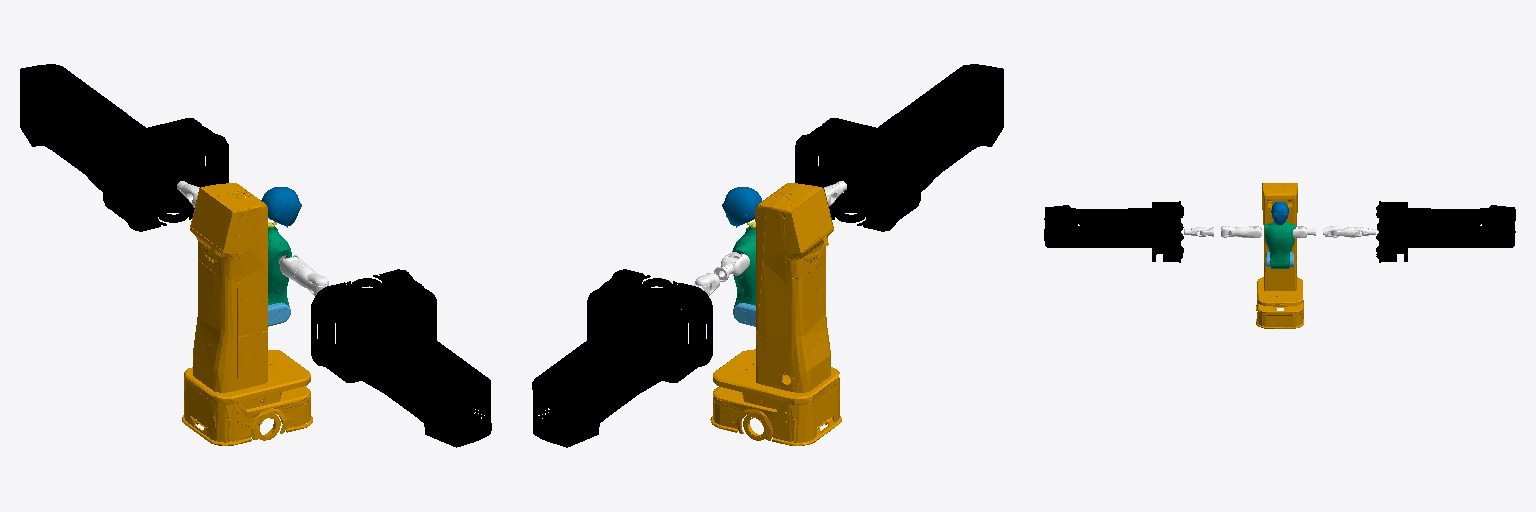
--- Render facts (derived) ---
3 views of the same robot in one strip: view 1: azimuth 30°, elevation 25°; view 2: azimuth 150°, elevation 25°; view 3: azimuth 270°, elevation 25° (orthographic).
Robot: genie — 46 links, 45 joints (33 revolute, 1 prismatic, 11 fixed); root link base_link; default pose: every joint at zero.
Visible links, largest first — view 1: base_link, gripper_r_base_link, gripper_l_base_link, body_link2, head_link2; view 2: base_link, gripper_l_base_link, gripper_r_base_link, body_link2, head_link2; view 3: gripper_r_base_link, gripper_l_base_link, base_link, body_link2.
Boxes of the visible links, box(x1,y1,x2,y2) form: base_link: box(182, 183, 312, 445); gripper_r_base_link: box(311, 269, 491, 447); gripper_l_base_link: box(20, 64, 228, 231); body_link2: box(268, 226, 291, 319); head_link2: box(261, 187, 301, 227); base_link: box(710, 183, 841, 445); gripper_l_base_link: box(532, 269, 712, 447); gripper_r_base_link: box(795, 64, 1003, 231); body_link2: box(732, 226, 755, 310); head_link2: box(722, 187, 761, 227); gripper_r_base_link: box(1044, 201, 1183, 262); gripper_l_base_link: box(1376, 201, 1515, 262); base_link: box(1256, 183, 1303, 328); body_link2: box(1264, 222, 1296, 268).
Size in the robot's own frame: 0.7298 by 4.41 by 1.3 metres.
23 mesh visuals loaded from 32 distinct referenced files (21 binary STL); not drawn: 20 (reference not matched to a file when rendering).

The robot description file, URDF, robot "genie":
<?xml version="1.0" ?>
<!-- =================================================================================== -->
<!-- |    This document was autogenerated by xacro from urdf/genie.robot.xacro         | -->
<!-- |    EDITING THIS FILE BY HAND IS NOT RECOMMENDED                                 | -->
<!-- =================================================================================== -->
<robot name="genie">
  <!-- Index -->
  <!-- body: [G1, G2] -->
  <!-- gripper: [dummy_hand, omnipicker, 120s, roh, skillhands6] -->
  <!-- <xacro:arg name="robot_model" default="G1" />
  <xacro:arg name="robot_model" default="G1" /> -->
  <!-- robot -->
  <!-- Material Definition -->
  <material name="black">
    <color rgba="0.0 0.0 0.0 1.0"/>
  </material>
  <material name="blue">
    <color rgba="0.0 0.0 0.8 1.0"/>
  </material>
  <material name="green">
    <color rgba="0.0 1.0 0.0 1.0"/>
  </material>
  <material name="grey">
    <color rgba="0.2 0.2 0.2 1.0"/>
  </material>
  <material name="orange">
    <color rgba="1.0 0.4235294117647059 0.0392156862745098 1.0"/>
  </material>
  <material name="brown">
    <color rgba="0.8705882352941177 0.8117647058823529 0.7647058823529411 1.0"/>
  </material>
  <material name="red">
    <color rgba="0.8 0.0 0.0 1.0"/>
  </material>
  <material name="white">
    <color rgba="1.0 1.0 1.0 1.0"/>
  </material>
  <!-- transparent is not working properly -->
  <material name="transparent">
    <color rgba="1.0 1.0 1.0 0.999"/>
  </material>
  <material name="default">
    <color rgba="0.752941176470588 0.752941176470588 0.752941176470588 1"/>
  </material>
  <!-- links -->
  <link name="base_link">
    <inertial>
      <origin rpy="0.0 0.0 0.0" xyz="-0.0134486971267798 0.00152103941353612 -0.0320076754329413"/>
      <mass value="23.2085382238952"/>
      <inertia ixx="0.386955641760608" ixy="0.000135417314593726" ixz="0.00669301645720665" iyy="0.366800407621218" iyz="0.000105713634260505" izz="0.546852919828475"/>
    </inertial>
    <visual>
      <geometry>
        <mesh filename="meshes/base_link.STL"/>
      </geometry>
      <origin rpy="0.0 0.0 0.0" xyz="0.0 0.0 0.0"/>
    </visual>
    <!-- <collision>
        <origin
          rpy="0.0 0.0 0.0"
          xyz="-0.10913086 0.0 0.51171875" />
        <geometry>
          <box size="0.29833984 0.3376392 1.0" />
        </geometry>
      </collision>
      <collision>
        <origin
          rpy="0.0 0.0 0.0"
          xyz="0.0 0.0 0.15" />
        <geometry>
          <box size="0.5996094 0.449 0.30273438" />
        </geometry>
      </collision> -->
  </link>
  <link name="body_link1">
    <inertial>
      <origin rpy="0.0 0.0 0.0" xyz="0.0338351537064605 -0.00248044044451858 0.000838431095422365"/>
      <mass value="3.26275452360108"/>
      <inertia ixx="0.0128301877197417" ixy="8.24967996575627e-06" ixz="1.38254543337324e-05" iyy="0.006104110250297" iyz="-7.99392548994692e-06" izz="0.0111721084996867"/>
    </inertial>
    <visual>
      <geometry>
        <mesh filename="meshes/link_up_down_body.STL"/>
      </geometry>
      <origin rpy="0.0 0.0 0.0" xyz="0.0 0.0 0.0"/>
    </visual>
    <!-- <collision>
        <origin
          rpy="0.0 0.0 0.0"
          xyz="0.10278320000000002 0.1 -0.013671875" />
        <geometry>
          <box size="0.16064453 0.05555534399999999 0.1328125" />
        </geometry>
      </collision>
      <collision>
        <origin
          rpy="0.0 0.0 0.0"
          xyz="0.10180664 -0.1 0.0" />
        <geometry>
          <box size="0.16259765999999998 0.04375648500000001 0.16015625" />
        </geometry>
      </collision> -->
  </link>
  <link name="body_link2">
    <inertial>
      <origin rpy="0.0 0.0 0.0" xyz="0.193733558855111 -0.000484180179482319 -0.00124011422952511"/>
      <mass value="7.53199207979272"/>
      <inertia ixx="0.016546682835947" ixy="0.000274441382484697" ixz="0.00102757387076422" iyy="0.0445441227006132" iyz="-0.000236858278708531" izz="0.0402036337794082"/>
    </inertial>
    <visual>
      <geometry>
        <mesh filename="meshes/link_pitch_body.STL"/>
      </geometry>
      <origin rpy="0.0 0.0 -1.5707963267948966" xyz="0.0 0.0 0.0"/>
    </visual>
    <!-- <collision>
        <origin
          rpy="0 0 0"
          xyz="0.0068359375 -0.00034356117 0.0" />
        <geometry>
          <cylinder radius="0.09662318" length="0.08697056999999997" />
        </geometry>
      </collision>
      <collision>
        <origin
          xyz="0.0068359375 -0.00034356117 0.043485284999999985" />
        <geometry>
          <sphere radius="0.09662318" />
        </geometry>
      </collision>
      <collision>
        <origin
          xyz="0.0068359375 -0.00034356117 -0.043485284999999985" />
        <geometry>
          <sphere radius="0.09662318" />
        </geometry>
      </collision>
      <collision>
        <origin
          rpy="0.0 0.0 -${PI_2}"
          xyz="0.008 -0.248 0.0" />
        <geometry>
          <box size="0.34570312 0.18107724 0.3125" />
        </geometry>
      </collision> -->
  </link>
  <link name="head_link1">
    <inertial>
      <origin rpy="0.0 0.0 0.0" xyz="0.0446068140025754 0.00241753143645124 0.0528373754603559"/>
      <mass value="0.414342871921048"/>
      <inertia ixx="0.000158695728344024" ixy="-1.04590928109554e-06" ixz="-6.58530903139189e-06" iyy="0.000117742864399469" iyz="-2.65011299996072e-06" izz="0.000170947040827065"/>
    </inertial>
    <visual>
      <geometry>
        <mesh filename="meshes/link_yaw_head.STL"/>
      </geometry>
      <origin rpy="0.0 0.0 0.0" xyz="0.0 0.0 0.0"/>
    </visual>
  </link>
  <link name="head_link2">
    <inertial>
      <origin rpy="0.0 0.0 0.0" xyz="0.0257009265816389 0.0316254080188787 -3.77390122592164e-05"/>
      <mass value="0.707063977171202"/>
      <inertia ixx="0.00205409595373573" ixy="0.000347730118005016" ixz="-2.13857752451204e-06" iyy="0.00200357281313449" iyz="5.16150600423908e-08" izz="0.00184999028444405"/>
    </inertial>
    <visual>
      <geometry>
        <mesh filename="meshes/link_pitch_head.STL"/>
      </geometry>
      <origin rpy="-3.141592653589793 0.0 0.0" xyz="0.0 0.0 0.0"/>
    </visual>
    <!-- <collision>
        <geometry>
          <sphere radius="0.11257068650657154" />
        </geometry>
        <origin
          xyz="0.011500973396434619 -0.0252600143348118 0.0008537154007319386"
          rpy="0.0 0.0 0.0" />
      </collision> -->
  </link>
  <link name="arm_base_link"/>
  <link name="arm_l_base_link">
    <inertial>
      <origin rpy="0.0 0.0 0.0" xyz="-0.00020641 0.00057488 0.032296"/>
      <mass value="0.37595"/>
      <inertia ixx="0.00024335" ixy="1.2188e-06" ixz="-2.4281e-06" iyy="0.00024039" iyz="6.6932e-06" izz="0.00032195"/>
    </inertial>
    <visual>
      <geometry>
        <mesh filename="meshes/base_link_l.STL"/>
      </geometry>
      <origin rpy="0.0 0.0 0.0" xyz="0.0 0.0 0.0"/>
    </visual>
    <!-- <collision>
        <geometry>
          <cylinder radius="0.05426921699310094" length="0.09134995751082897" />
        </geometry>
        <origin
          xyz="-0.0017106435846521925 0.0013720927967423996 0.02822502050548792"
          rpy="0.0 0.0 0.0" />
      </collision> -->
  </link>
  <link name="arm_r_base_link">
    <inertial>
      <origin rpy="0.0 0.0 0.0" xyz="0.00020641 -0.00057488 0.034396"/>
      <mass value="0.37595"/>
      <inertia ixx="0.00024335" ixy="1.2188e-06" ixz="2.4281e-06" iyy="0.00024039" iyz="-6.6932e-06" izz="0.00032195"/>
    </inertial>
    <visual>
      <geometry>
        <mesh filename="meshes/base_link_r.STL"/>
      </geometry>
      <origin rpy="0.0 0.0 0.0" xyz="0.0 0.0 0.0"/>
    </visual>
    <!-- <collision>
        <geometry>
          <cylinder radius="0.05447215073540005" length="0.0913499565795064" />
        </geometry>
        <origin
          xyz="0.001163549527588341 -0.0020492302944608923 0.030325019266456366"
          rpy="0.0 0.0 0.0" />
      </collision> -->
  </link>
  <!-- joints waist -->
  <joint name="idx01_body_joint1" type="prismatic">
    <parent link="base_link"/>
    <child link="body_link1"/>
    <origin rpy="0.0 0.0 0.0" xyz="0.0 0.0 0.6485"/>
    <axis xyz="0.0 0.0 1.0"/>
    <limit effort="100.0" lower="0.0" upper="0.55" velocity="0.1"/>
  </joint>
  <joint name="idx02_body_joint2" type="revolute">
    <parent link="body_link1"/>
    <child link="body_link2"/>
    <origin rpy="-1.5707963267948966 0.0 0.0" xyz="0.131 0.0 0.0"/>
    <axis xyz="0.0 0.0 1.0"/>
    <limit effort="100.0" lower="0.0" upper="1.5707963267948966" velocity="0.5"/>
  </joint>
  <!-- joints head -->
  <joint name="idx11_head_joint1" type="revolute">
    <parent link="body_link2"/>
    <child link="head_link1"/>
    <origin rpy="1.5707963267948966 0.0 0.0" xyz="0.0 -0.441 0.0"/>
    <axis xyz="0.0 0.0 1.0"/>
    <limit effort="50.0" lower="-1.5707963267948966" upper="1.5707963267948966" velocity="1.0"/>
  </joint>
  <joint name="idx12_head_joint2" type="revolute">
    <parent link="head_link1"/>
    <child link="head_link2"/>
    <origin rpy="-1.5707963267948966 0.0 0.0" xyz="0.050238 0.0 0.060065"/>
    <axis xyz="0.0 0.0 1.0"/>
    <limit effort="50.0" lower="-0.3490658503988659" upper="0.5235987755982988" velocity="1.0"/>
  </joint>
  <!-- joints arm base -->
  <joint name="idx10_arm_base_joint" type="fixed">
    <parent link="body_link2"/>
    <child link="arm_base_link"/>
    <origin rpy="1.5707963267948966 0.0 0.0" xyz="0.0 -0.305 0.0"/>
    <axis xyz="0.0 0.0 1.0"/>
  </joint>
  <joint name="idx11_arm_l_base_joint" type="fixed">
    <parent link="arm_base_link"/>
    <child link="arm_l_base_link"/>
    <origin rpy="-1.5707963267948966 0.0 0.0" xyz="0.0 0.025 0.0"/>
    <axis xyz="1.0 0.0 0.0"/>
  </joint>
  <joint name="idx12_arm_r_base_joint" type="fixed">
    <parent link="arm_base_link"/>
    <child link="arm_r_base_link"/>
    <origin rpy="-1.5707963267948966 0.0 3.141592653589793" xyz="0.0 -0.025 0.0"/>
    <axis xyz="1.0 0.0 0.0"/>
  </joint>
  <!-- properties -->
  <!-- links -->
  <link name="arm_l_link1">
    <inertial>
      <origin rpy="0 0 0" xyz="-0.0012655 -0.00043778 -0.018388"/>
      <mass value="0.4936"/>
      <inertia ixx="0.00075396" ixy="6.6935e-06" ixz="6.1141e-06" iyy="0.00065755" iyz="1.2196e-06" izz="0.00031848"/>
    </inertial>
    <visual>
      <origin rpy="0 0 0" xyz="0 0 0"/>
      <geometry>
        <mesh filename="meshes/Link1_l.STL"/>
      </geometry>
      <material name="white"/>
    </visual>
    <collision>
      <geometry>
        <cylinder length="0.16642063483595848" radius="0.05579268228774888"/>
      </geometry>
      <origin rpy="0.0 0.0 -1.2566370614359172" xyz="0.0026814433577366636 0.0006133775157398935 -0.04071124829351902"/>
    </collision>
  </link>
  <link name="arm_l_link2">
    <inertial>
      <origin rpy="0 0 0" xyz="5.3037e-05 -0.078258 0.0047084"/>
      <mass value="0.46245"/>
      <inertia ixx="0.00065719" ixy="3.7112e-07" ixz="-3.6668e-06" iyy="0.00043459" iyz="-2.517e-05" izz="0.00072571"/>
    </inertial>
    <visual>
      <origin rpy="0 0 0" xyz="0 0 0"/>
      <geometry>
        <mesh filename="meshes/Link2_l.STL"/>
      </geometry>
      <material name="white"/>
    </visual>
    <collision>
      <origin rpy="1.5707963267948966 0 0" xyz="0.0 -0.044062052 0.0009765625"/>
      <geometry>
        <cylinder length="0.18085919" radius="0.06302423"/>
      </geometry>
    </collision>
  </link>
  <link name="arm_l_link3">
    <inertial>
      <origin rpy="0 0 0" xyz="-0.0012032 0.0008714 -0.055265"/>
      <mass value="0.50026"/>
      <inertia ixx="0.0013016" ixy="3.1401e-06" ixz="1.4255e-05" iyy="0.001427" iyz="2.4361e-05" izz="0.00033587"/>
    </inertial>
    <visual>
      <origin rpy="0 0 0" xyz="0 0 0"/>
      <geometry>
        <mesh filename="meshes/Link3_l.STL"/>
      </geometry>
      <material name="white"/>
    </visual>
    <collision>
      <origin rpy="3.141592653589793 -1.2246467991473532e-16 2.5132741228718345" xyz="-0.002745052027917949 0.000636008250640886 -0.07223940640687943"/>
      <geometry>
        <cylinder length="0.22069887816905975" radius="0.05423258091998755"/>
      </geometry>
    </collision>
  </link>
  <link name="arm_l_link4">
    <inertial>
      <origin rpy="0 0 0" xyz="3.7035e-05 -0.06248 0.0025377"/>
      <mass value="0.27473"/>
      <inertia ixx="0.00029284" ixy="4.6615e-07" ixz="6.2359e-08" iyy="0.00018853" iyz="-1.1062e-06" izz="0.00031238"/>
    </inertial>
    <visual>
      <origin rpy="0 0 0" xyz="0 0 0"/>
      <geometry>
        <mesh filename="meshes/Link4_l.STL"/>
      </geometry>
      <material name="white"/>
    </visual>
    <collision>
      <origin rpy="1.5707963267948966 0 0" xyz="0.0 -0.03817895 -0.0043945312"/>
      <geometry>
        <cylinder length="0.154955404" radius="0.057891708"/>
      </geometry>
    </collision>
  </link>
  <link name="arm_l_link5">
    <inertial>
      <origin rpy="0 0 0" xyz="-7.9404e-07 -0.00023094 -0.024143"/>
      <mass value="0.25139"/>
      <inertia ixx="0.00023516" ixy="-1.3496e-09" ixz="-2.0314e-08" iyy="0.00028808" iyz="-1.2106e-05" izz="0.00013069"/>
    </inertial>
    <visual>
      <origin rpy="0 0 0" xyz="0 0 0"/>
      <geometry>
        <mesh filename="meshes/Link5_l.STL"/>
      </geometry>
      <material name="white"/>
    </visual>
    <collision>
      <origin rpy="0.0 0.0 -0.6283185307179586" xyz="0.00013161953185003987 -5.835551655943335e-05 -0.033305803313851357"/>
      <geometry>
        <cylinder length="0.13452399894595146" radius="0.045614576801007695"/>
      </geometry>
    </collision>
  </link>
  <link name="arm_l_link6">
    <inertial>
      <origin rpy="0 0 0" xyz="1.769e-06 -0.086692 0.0025571"/>
      <mass value="0.26634"/>
      <inertia ixx="0.00031434" ixy="-2.9254e-09" ixz="1.0017e-07" iyy="0.00014464" iyz="-2.0329e-05" izz="0.0003245"/>
    </inertial>
    <visual>
      <origin rpy="0 0 0" xyz="0 0 0"/>
      <geometry>
        <mesh filename="meshes/Link6_l.STL"/>
      </geometry>
      <material name="white"/>
    </visual>
    <collision>
      <origin rpy="-5.990089690983079e-19 -1.4805425285141327 -1.5677635369963552" xyz="0.0002549462426528953 -0.055477687883556816 -0.0019394332157672595"/>
      <geometry>
        <cylinder length="0.1816599826988493" radius="0.048507387167967514"/>
      </geometry>
    </collision>
  </link>
  <link name="arm_l_end_link">
    <inertial>
      <origin rpy="0 0 0" xyz="-7.5113e-05 -0.00024521 -0.016705"/>
      <mass value="0.06158"/>
      <inertia ixx="1.8407e-05" ixy="3.4796e-08" ixz="-3.2424e-09" iyy="1.818e-05" iyz="1.1327e-07" izz="2.8547e-05"/>
    </inertial>
    <visual>
      <origin rpy="0 0 0" xyz="0 0 0"/>
      <geometry>
        <mesh filename="meshes/Link7_l.STL"/>
      </geometry>
      <material name="white"/>
    </visual>
    <collision>
      <origin rpy="3.141592653589793 -1.2246467991473532e-16 3.141592653589793" xyz="-4.552953707661759e-05 -0.002300474691790042 -0.02249999972991645"/>
      <geometry>
        <cylinder length="0.045999998692423105" radius="0.030799950382754494"/>
      </geometry>
    </collision>
  </link>
  <!-- joints -->
  <joint name="idx21_arm_l_joint1" type="revolute">
    <parent link="arm_l_base_link"/>
    <child link="arm_l_link1"/>
    <origin rpy="0 0 0" xyz="0.0 0.0 0.1859"/>
    <axis xyz="0.0 0.0 1.0"/>
    <limit effort="60.0" lower="-3.14" upper="3.14" velocity="3.14"/>
  </joint>
  <joint name="idx22_arm_l_joint2" type="revolute">
    <parent link="arm_l_link1"/>
    <child link="arm_l_link2"/>
    <origin rpy="-1.5707963267948966 0.0 1.5707963267948966" xyz="0.0 0.0 0.0"/>
    <axis xyz="0.0 0.0 1.0"/>
    <limit effort="60.0" lower="-2.09" upper="1.48" velocity="3.14"/>
  </joint>
  <joint name="idx23_arm_l_joint3" type="revolute">
    <parent link="arm_l_link2"/>
    <child link="arm_l_link3"/>
    <origin rpy="-1.5707963267948966 1.5707963267948966 3.141592653589793" xyz="0.0 -0.305 0.0"/>
    <axis xyz="0.0 0.0 1.0"/>
    <limit effort="60.0" lower="-3.10" upper="3.10" velocity="3.14"/>
  </joint>
  <joint name="idx24_arm_l_joint4" type="revolute">
    <parent link="arm_l_link3"/>
    <child link="arm_l_link4"/>
    <origin rpy="-1.5707963267948966 0.0 3.141592653589793" xyz="0.0 0.0 0.0"/>
    <axis xyz="0.0 0.0 1.0"/>
    <limit effort="60.0" lower="-1.48" upper="1.48" velocity="3.14"/>
  </joint>
  <joint name="idx25_arm_l_joint5" type="revolute">
    <parent link="arm_l_link4"/>
    <child link="arm_l_link5"/>
    <origin rpy="-1.5707963267948966 0.0 -3.141592653589793" xyz="0.0 -0.1975 0.0"/>
    <axis xyz="0.0 0.0 1.0"/>
    <limit effort="30.0" lower="-3.10" upper="3.10" velocity="3.14"/>
  </joint>
  <joint name="idx26_arm_l_joint6" type="revolute">
    <parent link="arm_l_link5"/>
    <child link="arm_l_link6"/>
    <origin rpy="-1.5707963267948966 0.0 0.0" xyz="0.0 0.0 0.0"/>
    <axis xyz="0.0 0.0 1.0"/>
    <limit effort="30.0" lower="-1.74" upper="1.74" velocity="3.14"/>
  </joint>
  <joint name="idx27_arm_l_joint7" type="revolute">
    <origin rpy="1.5707963267948966 0.0 0.0" xyz="0.0 -0.1805 0.0"/>
    <parent link="arm_l_link6"/>
    <child link="arm_l_end_link"/>
    <axis xyz="0.0 0.0 1.0"/>
    <limit effort="30.0" lower="-3.10" upper="3.10" velocity="3.14"/>
  </joint>
  <!-- properties -->
  <!-- links -->
  <link name="arm_r_link1">
    <inertial>
      <origin rpy="0 0 0" xyz="0.0012679 -0.0001581 -0.018109"/>
      <mass value="0.4936"/>
      <inertia ixx="0.00075396" ixy="-2.4144e-06" ixz="-1.8364e-06" iyy="0.0006605" iyz="1.2174e-06" izz="0.00031553"/>
    </inertial>
    <visual>
      <origin rpy="0 0 0" xyz="0 0 0"/>
      <geometry>
        <mesh filename="meshes/Link1_r.STL"/>
      </geometry>
      <material name="white"/>
    </visual>
    <collision>
      <origin rpy="-3.141592653589793 -1.2246467991473535e-16 1.2566370614359175" xyz="0.00018724019569230644 -0.002004870648449318 -0.04071185737848282"/>
      <geometry>
        <cylinder length="0.16642716526985168" radius="0.0548390473201415"/>
      </geometry>
    </collision>
  </link>
  <link name="arm_r_link2">
    <inertial>
      <origin rpy="0 0 0" xyz="-0.00044207 -0.082298 0.00019486"/>
      <mass value="0.41662"/>
      <inertia ixx="0.00054592" ixy="4.7265e-06" ixz="2.4946e-06" iyy="0.00039507" iyz="-2.0629e-05" izz="0.00057791"/>
    </inertial>
    <visual>
      <origin rpy="0 0 0" xyz="0 0 0"/>
      <geometry>
        <mesh filename="meshes/Link2_r.STL"/>
      </geometry>
      <material name="white"/>
    </visual>
    <collision>
      <origin rpy="1.5707963267948966 0 0" xyz="0.0 -0.044062052 0.0009765625"/>
      <geometry>
        <cylinder length="0.18085919" radius="0.06302423"/>
      </geometry>
    </collision>
  </link>
  <link name="arm_r_link3">
    <inertial>
      <origin rpy="0 0 0" xyz="0.0010558 4.4416e-05 -0.056128"/>
      <mass value="0.49413"/>
      <inertia ixx="0.0013405" ixy="-6.8527e-07" ixz="-1.3381e-05" iyy="0.00142" iyz="2.8511e-05" izz="0.00037605"/>
    </inertial>
    <visual>
      <origin rpy="0 0 0" xyz="0 0 0"/>
      <geometry>
        <mesh filename="meshes/Link3_r.STL"/>
      </geometry>
      <material name="white"/>
    </visual>
    <collision>
      <origin rpy="0 0 0" xyz="0.0006559932284637068 -2.2628975236450855e-05 -0.07219303026795387"/>
      <geometry>
        <cylinder length="0.22061403840780258" radius="0.05216156143823925"/>
      </geometry>
    </collision>
  </link>
  <link name="arm_r_link4">
    <inertial>
      <origin rpy="0 0 0" xyz="2.4212e-05 -0.06248 0.002536"/>
      <mass value="0.27473"/>
      <inertia ixx="0.00029283" ixy="4.5586e-07" ixz="5.8042e-08" iyy="0.00018852" iyz="-1.116e-06" izz="0.00031238"/>
    </inertial>
    <visual>
      <origin rpy="0 0 0" xyz="0 0 0"/>
      <geometry>
        <mesh filename="meshes/Link4_r.STL"/>
      </geometry>
      <material name="white"/>
    </visual>
    <collision>
      <origin rpy="1.5707963267948966 0 0" xyz="0.0 -0.03817895 -0.0043945312"/>
      <geometry>
        <cylinder length="0.154955404" radius="0.057891708"/>
      </geometry>
    </collision>
  </link>
  <link name="arm_r_link5">
    <inertial>
      <origin rpy="0 0 0" xyz="2.6223e-06 -0.00023041 -0.024141"/>
      <mass value="0.25139"/>
      <inertia ixx="0.00023516" ixy="-6.5868e-09" ixz="-1.9428e-08" iyy="0.00028807" iyz="-1.2108e-05" izz="0.00013068"/>
    </inertial>
    <visual>
      <origin rpy="0 0 0" xyz="0 0 0"/>
      <geometry>
        <mesh filename="meshes/Link5_r.STL"/>
      </geometry>
      <material name="white"/>
    </visual>
    <collision>
      <origin rpy="0 0 0" xyz="-0.00022255510134868567 -4.227476414728204e-05 -0.03344946540892124"/>
      <geometry>
        <cylinder length="0.13423806056380272" radius="0.04562028545392604"/>
      </geometry>
    </collision>
  </link>
  <link name="arm_r_link6">
    <inertial>
      <origin rpy="0 0 0" xyz="5.0382e-06 -0.086696 0.002556"/>
      <mass value="0.26634"/>
      <inertia ixx="0.00031434" ixy="-1.2113e-09" ixz="1.0011e-07" iyy="0.00014464" iyz="-2.033e-05" izz="0.00032449"/>
    </inertial>
    <visual>
      <origin rpy="0 0 0" xyz="0 0 0"/>
      <geometry>
        <mesh filename="meshes/Link6_r.STL"/>
      </geometry>
      <material name="white"/>
    </visual>
    <collision>
      <origin rpy="0.0 -1.4835107730827122 -1.56897465223053" xyz="-1.7782549414354032e-05 -0.05507596972928094 -0.0017447156928267265"/>
      <geometry>
        <cylinder length="0.18272488500982115" radius="0.04857149291994264"/>
      </geometry>
    </collision>
  </link>
  <link name="arm_r_end_link">
    <inertial>
      <origin rpy="0 0 0" xyz="-7.5134e-05 -0.00024521 -0.016705"/>
      <mass value="0.06158"/>
      <inertia ixx="1.8407e-05" ixy="3.4818e-08" ixz="-3.2902e-09" iyy="1.818e-05" iyz="1.1326e-07" izz="2.8547e-05"/>
    </inertial>
    <visual>
      <origin rpy="0 0 0" xyz="0 0 0"/>
      <geometry>
        <mesh filename="meshes/Link7_r.STL"/>
      </geometry>
      <material name="white"/>
    </visual>
    <collision>
      <origin rpy="3.141592653589793 -1.2246467991473532e-16 3.141592653589793" xyz="-4.552953707661759e-05 -0.002300474691790042 -0.02249999972991645"/>
      <geometry>
        <cylinder length="0.045999998692423105" radius="0.030799950382754494"/>
      </geometry>
    </collision>
  </link>
  <!-- joints -->
  <joint name="idx61_arm_r_joint1" type="revolute">
    <parent link="arm_r_base_link"/>
    <child link="arm_r_link1"/>
    <origin rpy="0 0 0" xyz="0.0 0.0 0.188"/>
    <axis xyz="0.0 0.0 1.0"/>
    <limit effort="60.0" lower="-3.14" upper="3.14" velocity="3.14"/>
  </joint>
  <joint name="idx62_arm_r_joint2" type="revolute">
    <parent link="arm_r_link1"/>
    <child link="arm_r_link2"/>
    <origin rpy="-1.5707963267948966 0.0 -1.5707963267948966" xyz="0.0 0.0 0.0"/>
    <axis xyz="0.0 0.0 1.0"/>
    <limit effort="60.0" lower="-1.48" upper="2.09" velocity="3.14"/>
  </joint>
  <joint name="idx63_arm_r_joint3" type="revolute">
    <parent link="arm_r_link2"/>
    <child link="arm_r_link3"/>
    <origin rpy="-1.5707963267948966 -1.5707963267948966 3.141592653589793" xyz="0.0 -0.305 0.0"/>
    <axis xyz="0.0 0.0 1.0"/>
    <limit effort="60.0" lower="-3.10" upper="3.10" velocity="3.14"/>
  </joint>
  <joint name="idx64_arm_r_joint4" type="revolute">
    <parent link="arm_r_link3"/>
    <child link="arm_r_link4"/>
    <origin rpy="-1.5707963267948966 0.0 3.141592653589793" xyz="0.0 0.0 0.0"/>
    <axis xyz="0.0 0.0 1.0"/>
    <limit effort="60.0" lower="-1.48" upper="1.48" velocity="3.14"/>
  </joint>
  <joint name="idx65_arm_r_joint5" type="revolute">
    <parent link="arm_r_link4"/>
    <child link="arm_r_link5"/>
    <origin rpy="-1.5707963267948966 0.0 -3.141592653589793" xyz="0.0 -0.1975 0.0"/>
    <axis xyz="0.0 0.0 1.0"/>
    <limit effort="30.0" lower="-3.10" upper="3.10" velocity="3.14"/>
  </joint>
  <joint name="idx66_arm_r_joint6" type="revolute">
    <parent link="arm_r_link5"/>
    <child link="arm_r_link6"/>
    <origin rpy="-1.5707963267948966 0.0 0.0" xyz="0.0 0.0 0.0"/>
    <axis xyz="0.0 0.0 1.0"/>
    <limit effort="30.0" lower="-1.74" upper="1.74" velocity="3.14"/>
  </joint>
  <joint name="idx67_arm_r_joint7" type="revolute">
    <origin rpy="1.5707963267948966 0.0 0.0" xyz="0.0 -0.1805 0.0"/>
    <parent link="arm_r_link6"/>
    <child link="arm_r_end_link"/>
    <axis xyz="0.0 0.0 1.0"/>
    <limit effort="30.0" lower="-3.10" upper="3.10" velocity="3.14"/>
  </joint>
  <link name="gripper_l_base_link">
    <inertial>
      <origin rpy="0 0 0" xyz="1.23989288637867E-06 3.27564415436087E-07 0.0536186975993762"/>
      <mass value="0.443105756928829"/>
      <inertia ixx="0.00064200574020552" ixy="-1.51180224931458E-07" ixz="7.24174172220287E-09" iyy="0.00066998312004943" iyz="2.73584170951165E-09" izz="0.000278949393571484"/>
    </inertial>
    <visual>
      <origin rpy="0 0 0" xyz="0 0 0"/>
      <geometry>
        <mesh filename="meshes/crt_120s/base_link.STL"/>
      </geometry>
      <material name="black"/>
    </visual>
    <collision>
      <origin rpy="0 0 0" xyz="0 0 0"/>
      <geometry>
        <mesh filename="meshes/crt_120s/base_link.STL"/>
      </geometry>
    </collision>
  </link>
  <link name="gripper_l_outer_link1">
    <inertial>
      <origin rpy="0 0 0" xyz="0.00656387870913618 0.024850259757102 -9.40817030196858E-10"/>
      <mass value="0.0112899386472626"/>
      <inertia ixx="1.96944973967669E-06" ixy="6.42395813223716E-07" ixz="-1.07950451056367E-14" iyy="1.39704780795747E-06" iyz="-1.48209813327181E-14" izz="2.47457179553145E-06"/>
    </inertial>
    <visual>
      <origin rpy="0 0 0" xyz="0 0 0"/>
      <geometry>
        <mesh filename="meshes/crt_120s/Left_01_Link.STL"/>
      </geometry>
      <material name="black"/>
    </visual>
    <collision>
      <origin rpy="0 0 0" xyz="0 0 0"/>
      <geometry>
        <mesh filename="meshes/crt_120s/Left_01_Link.STL"/>
      </geometry>
    </collision>
  </link>
  <link name="gripper_l_outer_link3">
    <inertial>
      <origin rpy="0 0 0" xyz="0.00656387870913618 0.024850259757102 -9.40817030196858E-10"/>
      <mass value="0.0112899386472626"/>
      <inertia ixx="1.96944973967669E-06" ixy="6.42395813223716E-07" ixz="-1.07950451056367E-14" iyy="1.39704780795747E-06" iyz="-1.48209813327181E-14" izz="2.47457179553145E-06"/>
    </inertial>
    <visual>
      <origin rpy="0 0 0" xyz="0 0 0"/>
      <geometry>
        <mesh filename="meshes/crt_120s/Left_00_Link.STL"/>
      </geometry>
      <material name="black"/>
    </visual>
    <collision>
      <origin rpy="0 0 0" xyz="0 0 0"/>
      <geometry>
        <mesh filename="meshes/crt_120s/Left_00_Link.STL"/>
      </geometry>
    </collision>
  </link>
  <link name="gripper_l_outer_link4">
    <inertial>
      <origin rpy="0 0 0" xyz="-0.011970095332009 0.0238338043684485 -1.36624428992904E-06"/>
      <mass value="0.0140092102116716"/>
      <inertia ixx="4.13674978137002E-06" ixy="9.81573398608352E-07" ixz="-2.87921970465553E-11" iyy="1.1362453186293E-06" iyz="2.94726072168702E-11" izz="4.10226218364235E-06"/>
    </inertial>
    <visual>
      <origin rpy="0 0 0" xyz="0 0 0"/>
      <geometry>
        <mesh filename="meshes/crt_120s/Left_Support_Link.STL"/>
      </geometry>
      <material name="black"/>
    </visual>
    <collision>
      <origin rpy="0 0 0" xyz="0 0 0"/>
      <geometry>
        <mesh filename="meshes/crt_120s/Left_Support_Link.STL"/>
      </geometry>
    </collision>
  </link>
  <link name="gripper_l_outer_link5">
    <inertial>
      <origin rpy="0 0 0" xyz="1.46688816627348E-09 0.00209017783344978 -8.17280129359337E-17"/>
      <mass value="0.00332411394949541"/>
      <inertia ixx="5.5867126170785E-07" ixy="2.9966962370347E-20" ixz="1.44978830317617E-23" iyy="1.45407135182096E-07" iyz="-1.60867378777053E-21" izz="4.18250297449997E-07"/>
    </inertial>
    <visual>
      <origin rpy="0 0 0" xyz="0 0 0"/>
      <geometry>
        <mesh filename="meshes/crt_120s/Left_Pad_Link.STL"/>
      </geometry>
      <material name="black"/>
    </visual>
    <collision>
      <origin rpy="0 0 0" xyz="0 0 0"/>
      <geometry>
        <mesh filename="meshes/crt_120s/Left_Pad_Link.STL"/>
      </geometry>
    </collision>
  </link>
  <link name="gripper_l_outer_link2">
    <inertial>
      <origin rpy="0 0 0" xyz="-0.00438952959966343 0.0248815722409523 -2.55135883071891E-05"/>
      <mass value="0.00803955821311802"/>
      <inertia ixx="1.15079028835042E-06" ixy="1.13853775681911E-07" ixz="-1.79492796413463E-10" iyy="4.68655200337902E-07" iyz="-4.49903912976825E-10" izz="8.47367915692972E-07"/>
    </inertial>
    <visual>
      <origin rpy="0 0 0" xyz="0 0 0"/>
      <geometry>
        <mesh filename="meshes/crt_120s/Left_2_Link.STL"/>
      </geometry>
      <material name="black"/>
    </visual>
    <collision>
      <origin rpy="0 0 0" xyz="0 0 0"/>
      <geometry>
        <mesh filename="meshes/crt_120s/Left_2_Link.STL"/>
      </geometry>
    </collision>
  </link>
  <link name="gripper_l_inner_link2">
    <inertial>
      <origin rpy="0 0 0" xyz="-0.00438952959968201 0.0248815722409522 -2.5513588307359E-05"/>
      <mass value="0.00803955821311803"/>
      <inertia ixx="1.15079028835042E-06" ixy="1.13853775681912E-07" ixz="-1.79492796413511E-10" iyy="4.68655200337903E-07" iyz="-4.49903912976901E-10" izz="8.47367915692974E-07"/>
    </inertial>
    <visual>
      <origin rpy="0 0 0" xyz="0 0 0"/>
      <geometry>
        <mesh filename="meshes/crt_120s/Right_2_Link.STL"/>
      </geometry>
      <material name="black"/>
    </visual>
    <collision>
      <origin rpy="0 0 0" xyz="0 0 0"/>
      <geometry>
        <mesh filename="meshes/crt_120s/Right_2_Link.STL"/>
      </geometry>
    </collision>
  </link>
  <link name="gripper_l_inner_link1">
    <inertial>
      <origin rpy="0 0 0" xyz="0.00656387870564603 0.0248502597572661 -9.40812230336897E-10"/>
      <mass value="0.0112899386472626"/>
      <inertia ixx="1.96944973967663E-06" ixy="6.42395813223747E-07" ixz="-1.07950449101923E-14" iyy="1.39704780795753E-06" iyz="-1.48209815851649E-14" izz="2.47457179553146E-06"/>
    </inertial>
    <visual>
      <origin rpy="0 0 0" xyz="0 0 0"/>
      <geometry>
        <mesh filename="meshes/crt_120s/Right_01_Link.STL"/>
      </geometry>
      <material name="black"/>
    </visual>
    <collision>
      <origin rpy="0 0 0" xyz="0 0 0"/>
      <geometry>
        <mesh filename="meshes/crt_120s/Right_01_Link.STL"/>
      </geometry>
    </collision>
  </link>
  <link name="gripper_l_inner_link3">
    <inertial>
      <origin rpy="0 0 0" xyz="0.00656387870564603 0.0248502597572661 -9.40812230336897E-10"/>
      <mass value="0.0112899386472626"/>
      <inertia ixx="1.96944973967663E-06" ixy="6.42395813223747E-07" ixz="-1.07950449101923E-14" iyy="1.39704780795753E-06" iyz="-1.48209815851649E-14" izz="2.47457179553146E-06"/>
    </inertial>
    <visual>
      <origin rpy="0 0 0" xyz="0 0 0"/>
      <geometry>
        <mesh filename="meshes/crt_120s/Right_00_Link.STL"/>
      </geometry>
      <material name="black"/>
    </visual>
    <collision>
      <origin rpy="0 0 0" xyz="0 0 0"/>
      <geometry>
        <mesh filename="meshes/crt_120s/Right_00_Link.STL"/>
      </geometry>
    </collision>
  </link>
  <link name="gripper_l_inner_link4">
    <inertial>
      <origin rpy="0 0 0" xyz="-0.011970095112324 0.0238338043682057 -1.36624428997256E-06"/>
      <mass value="0.0140092102116716"/>
      <inertia ixx="4.13674978136988E-06" ixy="9.81573398608576E-07" ixz="-2.87921970465403E-11" iyy="1.13624531862944E-06" iyz="2.94726072165632E-11" izz="4.10226218364236E-06"/>
    </inertial>
    <visual>
      <origin rpy="0 0 0" xyz="0 0 0"/>
      <geometry>
        <mesh filename="meshes/crt_120s/Right_Support_Link.STL"/>
      </geometry>
      <material name="black"/>
    </visual>
    <collision>
      <origin rpy="0 0 0" xyz="0 0 0"/>
      <geometry>
        <mesh filename="meshes/crt_120s/Right_Support_Link.STL"/>
      </geometry>
    </collision>
  </link>
  <link name="gripper_l_inner_link5">
    <inertial>
      <origin rpy="0 0 0" xyz="5.43457184440897E-09 0.00209017783344967 -1.21646039264426E-16"/>
      <mass value="0.00332411394949542"/>
      <inertia ixx="5.58671261707851E-07" ixy="3.06066210315894E-20" ixz="1.70379713307979E-23" iyy="1.45407135182096E-07" iyz="-1.65096420438087E-21" izz="4.18250297449998E-07"/>
    </inertial>
    <visual>
      <origin rpy="0 0 0" xyz="0 0 0"/>
      <geometry>
        <mesh filename="meshes/crt_120s/Right_Pad_Link.STL"/>
      </geometry>
      <material name="black"/>
    </visual>
    <collision>
      <origin rpy="0 0 0" xyz="0 0 0"/>
      <geometry>
        <mesh filename="meshes/crt_120s/Right_Pad_Link.STL"/>
      </geometry>
    </collision>
  </link>
  <joint name="idx41_gripper_l_outer_joint1" type="revolute">
    <origin rpy="1.5707963267948966 0 3.141592653589793" xyz="-0.032553 0 0.10644"/>
    <parent link="gripper_l_base_link"/>
    <child link="gripper_l_outer_link1"/>
    <axis xyz="0 0 -1"/>
    <limit effort="10" lower="0" upper="1" velocity="4.1887902047863905"/>
  </joint>
  <joint name="idx42_gripper_l_outer_joint3" type="revolute">
    <origin rpy="0 0 0" xyz="0.01946 0.0129 0"/>
    <parent link="gripper_l_outer_link1"/>
    <child link="gripper_l_outer_link3"/>
    <axis xyz="0 0 1"/>
    <limit effort="10" lower="-1" upper="1" velocity="4.1887902047863905"/>
  </joint>
  <joint name="idx43_gripper_l_outer_joint4" type="revolute">
    <origin rpy="0 0 0" xyz="-0.02888 0.04341 0"/>
    <parent link="gripper_l_outer_link3"/>
    <child link="gripper_l_outer_link4"/>
    <axis xyz="0 0 1"/>
    <limit effort="10" lower="-1" upper="1" velocity="4.1887902047863905"/>
    <mimic joint="idx41_gripper_l_outer_joint1" multiplier="1" offset="0"/>
  </joint>
  <joint name="idx44_gripper_l_outer_joint5" type="fixed">
    <origin rpy="0 0 0" xyz="-0.022056 0.044306 0"/>
    <parent link="gripper_l_outer_link4"/>
    <child link="gripper_l_outer_link5"/>
    <axis xyz="0 0 0"/>
  </joint>
  <joint name="idx49_gripper_l_outer_joint2" type="revolute">
    <origin rpy="1.5707963267948966 0 3.141592653589793" xyz="-0.017 0 0.122"/>
    <parent link="gripper_l_base_link"/>
    <child link="gripper_l_outer_link2"/>
    <axis xyz="0 0 -1"/>
    <limit effort="10" lower="-1" upper="1" velocity="4.1887902047863905"/>
    <mimic joint="idx41_gripper_l_outer_joint1" multiplier="1" offset="0"/>
  </joint>
  <joint name="idx39_gripper_l_inner_joint2" type="revolute">
    <origin rpy="1.5707963267948966 0 0" xyz="0.017 0 0.122"/>
    <parent link="gripper_l_base_link"/>
    <child link="gripper_l_inner_link2"/>
    <axis xyz="0 0 1"/>
    <limit effort="10" lower="-1" upper="1" velocity="4.1887902047863905"/>
    <mimic joint="idx41_gripper_l_outer_joint1" multiplier="-1" offset="0"/>
  </joint>
  <joint name="idx31_gripper_l_inner_joint1" type="revolute">
    <origin rpy="1.5707963267948966 0 0" xyz="0.032553 0 0.10644"/>
    <parent link="gripper_l_base_link"/>
    <child link="gripper_l_inner_link1"/>
    <axis xyz="0 0 -1"/>
    <limit effort="10" lower="-1" upper="1" velocity="4.1887902047863905"/>
    <mimic joint="idx41_gripper_l_outer_joint1" multiplier="1" offset="0"/>
  </joint>
  <joint name="idx32_gripper_l_inner_joint3" type="revolute">
    <origin rpy="0 0 0" xyz="0.01946 0.0129 0"/>
    <parent link="gripper_l_inner_link1"/>
    <child link="gripper_l_inner_link3"/>
    <axis xyz="0 0 1"/>
    <limit effort="10" lower="-1" upper="1" velocity="4.1887902047863905"/>
  </joint>
  <joint name="idx33_gripper_l_inner_joint4" type="revolute">
    <origin rpy="0 0 0" xyz="-0.02888 0.04341 0"/>
    <parent link="gripper_l_inner_link3"/>
    <child link="gripper_l_inner_link4"/>
    <axis xyz="0 0 1"/>
    <limit effort="10" lower="-1" upper="1" velocity="4.1887902047863905"/>
    <mimic joint="idx41_gripper_l_outer_joint1" multiplier="1" offset="0"/>
  </joint>
  <joint name="idx34_gripper_l_inner_joint5" type="fixed">
    <origin rpy="0 0 0" xyz="-0.022056 0.044306 0"/>
    <parent link="gripper_l_inner_link4"/>
    <child link="gripper_l_inner_link5"/>
    <axis xyz="0 0 0"/>
  </joint>
  <!-- Gripper Connector -->
  <joint name="idx61_ee_l_joint" type="fixed">
    <parent link="arm_l_end_link"/>
    <child link="gripper_l_base_link"/>
    <origin rpy="0 0 0" xyz="0 0 0"/>
    <axis xyz="0.0 0.0 0.0"/>
  </joint>
  <link name="gripper_l_center_link">
    </link>
  <joint name="idx52_gripper_l_center_joint" type="fixed">
    <origin rpy="0 0 -1.5707963267948966" xyz="0.0 0.0 0.1"/>
    <parent link="gripper_l_base_link"/>
    <child link="gripper_l_center_link"/>
  </joint>
  <!-- Gripper Finger Close-loop Structure -->
  <loop_joint name="idx53_gripper_l_outer_joint0" type="spherical">
    <link1 link="gripper_l_outer_link4" rpy="0 0 0" xyz="-0.01546 0.0156 0"/>
    <link2 link="gripper_l_outer_link2" rpy="0 0 0" xyz="-0.00932 0.05635 0"/>
    <axis xyz="0 0 -1"/>
  </loop_joint>
  <loop_joint name="idx54_gripper_l_inner_joint0" type="spherical">
    <link1 link="gripper_l_inner_link4" rpy="0 0 0" xyz="-0.01546 0.0156 0"/>
    <link2 link="gripper_l_inner_link2" rpy="0 0 0" xyz="-0.00932 0.05635 0"/>
    <axis xyz="0 0 1"/>
  </loop_joint>
  <link name="gripper_r_base_link">
    <inertial>
      <origin rpy="0 0 0" xyz="1.23989288637867E-06 3.27564415436087E-07 0.0536186975993762"/>
      <mass value="0.443105756928829"/>
      <inertia ixx="0.00064200574020552" ixy="-1.51180224931458E-07" ixz="7.24174172220287E-09" iyy="0.00066998312004943" iyz="2.73584170951165E-09" izz="0.000278949393571484"/>
    </inertial>
    <visual>
      <origin rpy="0 0 0" xyz="0 0 0"/>
      <geometry>
        <mesh filename="meshes/crt_120s/base_link.STL"/>
      </geometry>
      <material name="black"/>
    </visual>
    <collision>
      <origin rpy="0 0 0" xyz="0 0 0"/>
      <geometry>
        <mesh filename="meshes/crt_120s/base_link.STL"/>
      </geometry>
    </collision>
  </link>
  <link name="gripper_r_outer_link1">
    <inertial>
      <origin rpy="0 0 0" xyz="0.00656387870913618 0.024850259757102 -9.40817030196858E-10"/>
      <mass value="0.0112899386472626"/>
      <inertia ixx="1.96944973967669E-06" ixy="6.42395813223716E-07" ixz="-1.07950451056367E-14" iyy="1.39704780795747E-06" iyz="-1.48209813327181E-14" izz="2.47457179553145E-06"/>
    </inertial>
    <visual>
      <origin rpy="0 0 0" xyz="0 0 0"/>
      <geometry>
        <mesh filename="meshes/crt_120s/Left_01_Link.STL"/>
      </geometry>
      <material name="black"/>
    </visual>
    <collision>
      <origin rpy="0 0 0" xyz="0 0 0"/>
      <geometry>
        <mesh filename="meshes/crt_120s/Left_01_Link.STL"/>
      </geometry>
    </collision>
  </link>
  <link name="gripper_r_outer_link3">
    <inertial>
      <origin rpy="0 0 0" xyz="0.00656387870913618 0.024850259757102 -9.40817030196858E-10"/>
      <mass value="0.0112899386472626"/>
      <inertia ixx="1.96944973967669E-06" ixy="6.42395813223716E-07" ixz="-1.07950451056367E-14" iyy="1.39704780795747E-06" iyz="-1.48209813327181E-14" izz="2.47457179553145E-06"/>
    </inertial>
    <visual>
      <origin rpy="0 0 0" xyz="0 0 0"/>
      <geometry>
        <mesh filename="meshes/crt_120s/Left_00_Link.STL"/>
      </geometry>
      <material name="black"/>
    </visual>
    <collision>
      <origin rpy="0 0 0" xyz="0 0 0"/>
      <geometry>
        <mesh filename="meshes/crt_120s/Left_00_Link.STL"/>
      </geometry>
    </collision>
  </link>
  <link name="gripper_r_outer_link4">
    <inertial>
      <origin rpy="0 0 0" xyz="-0.011970095332009 0.0238338043684485 -1.36624428992904E-06"/>
      <mass value="0.0140092102116716"/>
      <inertia ixx="4.13674978137002E-06" ixy="9.81573398608352E-07" ixz="-2.87921970465553E-11" iyy="1.1362453186293E-06" iyz="2.94726072168702E-11" izz="4.10226218364235E-06"/>
    </inertial>
    <visual>
      <origin rpy="0 0 0" xyz="0 0 0"/>
      <geometry>
        <mesh filename="meshes/crt_120s/Left_Support_Link.STL"/>
      </geometry>
      <material name="black"/>
    </visual>
    <collision>
      <origin rpy="0 0 0" xyz="0 0 0"/>
      <geometry>
        <mesh filename="meshes/crt_120s/Left_Support_Link.STL"/>
      </geometry>
    </collision>
  </link>
  <link name="gripper_r_outer_link5">
    <inertial>
      <origin rpy="0 0 0" xyz="1.46688816627348E-09 0.00209017783344978 -8.17280129359337E-17"/>
      <mass value="0.00332411394949541"/>
      <inertia ixx="5.5867126170785E-07" ixy="2.9966962370347E-20" ixz="1.44978830317617E-23" iyy="1.45407135182096E-07" iyz="-1.60867378777053E-21" izz="4.18250297449997E-07"/>
    </inertial>
    <visual>
      <origin rpy="0 0 0" xyz="0 0 0"/>
      <geometry>
        <mesh filename="meshes/crt_120s/Left_Pad_Link.STL"/>
      </geometry>
      <material name="black"/>
    </visual>
    <collision>
      <origin rpy="0 0 0" xyz="0 0 0"/>
      <geometry>
        <mesh filename="meshes/crt_120s/Left_Pad_Link.STL"/>
      </geometry>
    </collision>
  </link>
  <link name="gripper_r_outer_link2">
    <inertial>
      <origin rpy="0 0 0" xyz="-0.00438952959966343 0.0248815722409523 -2.55135883071891E-05"/>
      <mass value="0.00803955821311802"/>
      <inertia ixx="1.15079028835042E-06" ixy="1.13853775681911E-07" ixz="-1.79492796413463E-10" iyy="4.68655200337902E-07" iyz="-4.49903912976825E-10" izz="8.47367915692972E-07"/>
    </inertial>
    <visual>
      <origin rpy="0 0 0" xyz="0 0 0"/>
      <geometry>
        <mesh filename="meshes/crt_120s/Left_2_Link.STL"/>
      </geometry>
      <material name="black"/>
    </visual>
    <collision>
      <origin rpy="0 0 0" xyz="0 0 0"/>
      <geometry>
        <mesh filename="meshes/crt_120s/Left_2_Link.STL"/>
      </geometry>
    </collision>
  </link>
  <link name="gripper_r_inner_link2">
    <inertial>
      <origin rpy="0 0 0" xyz="-0.00438952959968201 0.0248815722409522 -2.5513588307359E-05"/>
      <mass value="0.00803955821311803"/>
      <inertia ixx="1.15079028835042E-06" ixy="1.13853775681912E-07" ixz="-1.79492796413511E-10" iyy="4.68655200337903E-07" iyz="-4.49903912976901E-10" izz="8.47367915692974E-07"/>
    </inertial>
    <visual>
      <origin rpy="0 0 0" xyz="0 0 0"/>
      <geometry>
        <mesh filename="meshes/crt_120s/Right_2_Link.STL"/>
      </geometry>
      <material name="black"/>
    </visual>
    <collision>
      <origin rpy="0 0 0" xyz="0 0 0"/>
      <geometry>
        <mesh filename="meshes/crt_120s/Right_2_Link.STL"/>
      </geometry>
    </collision>
  </link>
  <link name="gripper_r_inner_link1">
    <inertial>
      <origin rpy="0 0 0" xyz="0.00656387870564603 0.0248502597572661 -9.40812230336897E-10"/>
      <mass value="0.0112899386472626"/>
      <inertia ixx="1.96944973967663E-06" ixy="6.42395813223747E-07" ixz="-1.07950449101923E-14" iyy="1.39704780795753E-06" iyz="-1.48209815851649E-14" izz="2.47457179553146E-06"/>
    </inertial>
    <visual>
      <origin rpy="0 0 0" xyz="0 0 0"/>
      <geometry>
        <mesh filename="meshes/crt_120s/Right_01_Link.STL"/>
      </geometry>
      <material name="black"/>
    </visual>
    <collision>
      <origin rpy="0 0 0" xyz="0 0 0"/>
      <geometry>
        <mesh filename="meshes/crt_120s/Right_01_Link.STL"/>
      </geometry>
    </collision>
  </link>
  <link name="gripper_r_inner_link3">
    <inertial>
      <origin rpy="0 0 0" xyz="0.00656387870564603 0.0248502597572661 -9.40812230336897E-10"/>
      <mass value="0.0112899386472626"/>
      <inertia ixx="1.96944973967663E-06" ixy="6.42395813223747E-07" ixz="-1.07950449101923E-14" iyy="1.39704780795753E-06" iyz="-1.48209815851649E-14" izz="2.47457179553146E-06"/>
    </inertial>
    <visual>
      <origin rpy="0 0 0" xyz="0 0 0"/>
      <geometry>
        <mesh filename="meshes/crt_120s/Right_00_Link.STL"/>
      </geometry>
      <material name="black"/>
    </visual>
    <collision>
      <origin rpy="0 0 0" xyz="0 0 0"/>
      <geometry>
        <mesh filename="meshes/crt_120s/Right_00_Link.STL"/>
      </geometry>
    </collision>
  </link>
  <link name="gripper_r_inner_link4">
    <inertial>
      <origin rpy="0 0 0" xyz="-0.011970095112324 0.0238338043682057 -1.36624428997256E-06"/>
      <mass value="0.0140092102116716"/>
      <inertia ixx="4.13674978136988E-06" ixy="9.81573398608576E-07" ixz="-2.87921970465403E-11" iyy="1.13624531862944E-06" iyz="2.94726072165632E-11" izz="4.10226218364236E-06"/>
    </inertial>
    <visual>
      <origin rpy="0 0 0" xyz="0 0 0"/>
      <geometry>
        <mesh filename="meshes/crt_120s/Right_Support_Link.STL"/>
      </geometry>
      <material name="black"/>
    </visual>
    <collision>
      <origin rpy="0 0 0" xyz="0 0 0"/>
      <geometry>
        <mesh filename="meshes/crt_120s/Right_Support_Link.STL"/>
      </geometry>
    </collision>
  </link>
  <link name="gripper_r_inner_link5">
    <inertial>
      <origin rpy="0 0 0" xyz="5.43457184440897E-09 0.00209017783344967 -1.21646039264426E-16"/>
      <mass value="0.00332411394949542"/>
      <inertia ixx="5.58671261707851E-07" ixy="3.06066210315894E-20" ixz="1.70379713307979E-23" iyy="1.45407135182096E-07" iyz="-1.65096420438087E-21" izz="4.18250297449998E-07"/>
    </inertial>
    <visual>
      <origin rpy="0 0 0" xyz="0 0 0"/>
      <geometry>
        <mesh filename="meshes/crt_120s/Right_Pad_Link.STL"/>
      </geometry>
      <material name="black"/>
    </visual>
    <collision>
      <origin rpy="0 0 0" xyz="0 0 0"/>
      <geometry>
        <mesh filename="meshes/crt_120s/Right_Pad_Link.STL"/>
      </geometry>
    </collision>
  </link>
  <joint name="idx81_gripper_r_outer_joint1" type="revolute">
    <origin rpy="1.5707963267948966 0 3.141592653589793" xyz="-0.032553 0 0.10644"/>
    <parent link="gripper_r_base_link"/>
    <child link="gripper_r_outer_link1"/>
    <axis xyz="0 0 -1"/>
    <limit effort="10" lower="0" upper="1" velocity="4.1887902047863905"/>
  </joint>
  <joint name="idx82_gripper_r_outer_joint3" type="revolute">
    <origin rpy="0 0 0" xyz="0.01946 0.0129 0"/>
    <parent link="gripper_r_outer_link1"/>
    <child link="gripper_r_outer_link3"/>
    <axis xyz="0 0 1"/>
    <limit effort="10" lower="-1" upper="1" velocity="4.1887902047863905"/>
  </joint>
  <joint name="idx83_gripper_r_outer_joint4" type="revolute">
    <origin rpy="0 0 0" xyz="-0.02888 0.04341 0"/>
    <parent link="gripper_r_outer_link3"/>
    <child link="gripper_r_outer_link4"/>
    <axis xyz="0 0 1"/>
    <limit effort="10" lower="-1" upper="1" velocity="4.1887902047863905"/>
    <mimic joint="idx81_gripper_r_outer_joint1" multiplier="1" offset="0"/>
  </joint>
  <joint name="idx84_gripper_r_outer_joint5" type="fixed">
    <origin rpy="0 0 0" xyz="-0.022056 0.044306 0"/>
    <parent link="gripper_r_outer_link4"/>
    <child link="gripper_r_outer_link5"/>
    <axis xyz="0 0 0"/>
  </joint>
  <joint name="idx89_gripper_r_outer_joint2" type="revolute">
    <origin rpy="1.5707963267948966 0 3.141592653589793" xyz="-0.017 0 0.122"/>
    <parent link="gripper_r_base_link"/>
    <child link="gripper_r_outer_link2"/>
    <axis xyz="0 0 -1"/>
    <limit effort="10" lower="-1" upper="1" velocity="4.1887902047863905"/>
    <mimic joint="idx81_gripper_r_outer_joint1" multiplier="1" offset="0"/>
  </joint>
  <joint name="idx79_gripper_r_inner_joint2" type="revolute">
    <origin rpy="1.5707963267948966 0 0" xyz="0.017 0 0.122"/>
    <parent link="gripper_r_base_link"/>
    <child link="gripper_r_inner_link2"/>
    <axis xyz="0 0 1"/>
    <limit effort="10" lower="-1" upper="1" velocity="4.1887902047863905"/>
    <mimic joint="idx81_gripper_r_outer_joint1" multiplier="-1" offset="0"/>
  </joint>
  <joint name="idx71_gripper_r_inner_joint1" type="revolute">
    <origin rpy="1.5707963267948966 0 0" xyz="0.032553 0 0.10644"/>
    <parent link="gripper_r_base_link"/>
    <child link="gripper_r_inner_link1"/>
    <axis xyz="0 0 -1"/>
    <limit effort="10" lower="-1" upper="1" velocity="4.1887902047863905"/>
    <mimic joint="idx81_gripper_r_outer_joint1" multiplier="1" offset="0"/>
  </joint>
  <joint name="idx72_gripper_r_inner_joint3" type="revolute">
    <origin rpy="0 0 0" xyz="0.01946 0.0129 0"/>
    <parent link="gripper_r_inner_link1"/>
    <child link="gripper_r_inner_link3"/>
    <axis xyz="0 0 1"/>
    <limit effort="10" lower="-1" upper="1" velocity="4.1887902047863905"/>
  </joint>
  <joint name="idx73_gripper_r_inner_joint4" type="revolute">
    <origin rpy="0 0 0" xyz="-0.02888 0.04341 0"/>
    <parent link="gripper_r_inner_link3"/>
    <child link="gripper_r_inner_link4"/>
    <axis xyz="0 0 1"/>
    <limit effort="10" lower="-1" upper="1" velocity="4.1887902047863905"/>
    <mimic joint="idx81_gripper_r_outer_joint1" multiplier="1" offset="0"/>
  </joint>
  <joint name="idx74_gripper_r_inner_joint5" type="fixed">
    <origin rpy="0 0 0" xyz="-0.022056 0.044306 0"/>
    <parent link="gripper_r_inner_link4"/>
    <child link="gripper_r_inner_link5"/>
    <axis xyz="0 0 0"/>
  </joint>
  <!-- Gripper Connector -->
  <joint name="idx91_ee_r_joint" type="fixed">
    <parent link="arm_r_end_link"/>
    <child link="gripper_r_base_link"/>
    <origin rpy="0 0 3.141592653589793" xyz="0 0 0"/>
    <axis xyz="0.0 0.0 0.0"/>
  </joint>
  <link name="gripper_r_center_link">
    </link>
  <joint name="idx92_gripper_r_center_joint" type="fixed">
    <origin rpy="0 0 -1.5707963267948966" xyz="0.0 0.0 0.1"/>
    <parent link="gripper_r_base_link"/>
    <child link="gripper_r_center_link"/>
  </joint>
  <!-- Gripper Finger Close-loop Structure -->
  <loop_joint name="idx93_gripper_r_outer_joint0" type="spherical">
    <link1 link="gripper_r_outer_link4" rpy="0 0 0" xyz="-0.01546 0.0156 0"/>
    <link2 link="gripper_r_outer_link2" rpy="0 0 0" xyz="-0.00932 0.05635 0"/>
    <axis xyz="0 0 -1"/>
  </loop_joint>
  <loop_joint name="idx94_gripper_r_inner_joint0" type="spherical">
    <link1 link="gripper_r_inner_link4" rpy="0 0 0" xyz="-0.01546 0.0156 0"/>
    <link2 link="gripper_r_inner_link2" rpy="0 0 0" xyz="-0.00932 0.05635 0"/>
    <axis xyz="0 0 1"/>
  </loop_joint>
  <!-- Eastern Eggs -->
  <!-- All Together -->
</robot>
